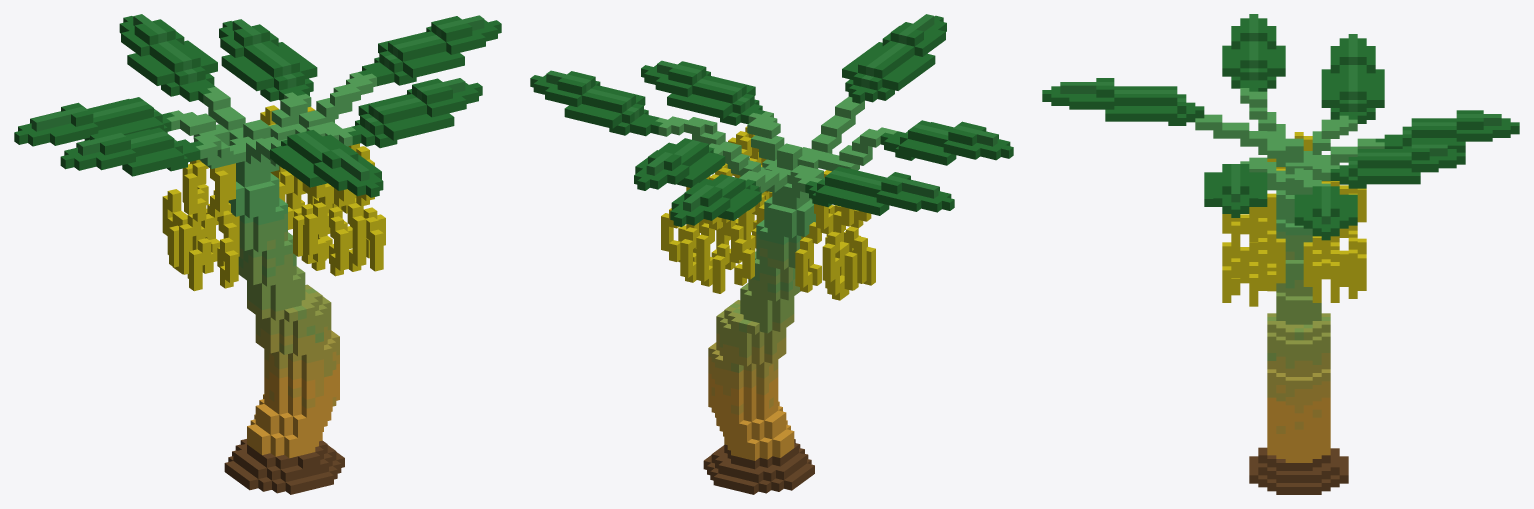
Rendered from 2_1 bana.obj.
The picture shows the model from 3 angles, left to right: view 1: azimuth 30°, elevation 25°; view 2: azimuth 150°, elevation 25°; view 3: azimuth 270°, elevation 25°; orthographic projection. The views are drawn at different scales.
Size of the model in its own units: 5.5 by 4.5 by 5.3.
Materials: 1 (1 with a texture image).
